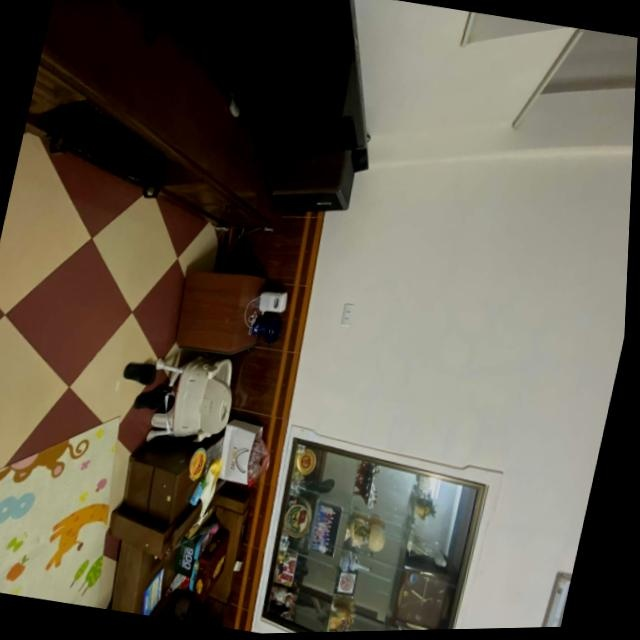outlet: (338, 302, 355, 327)
